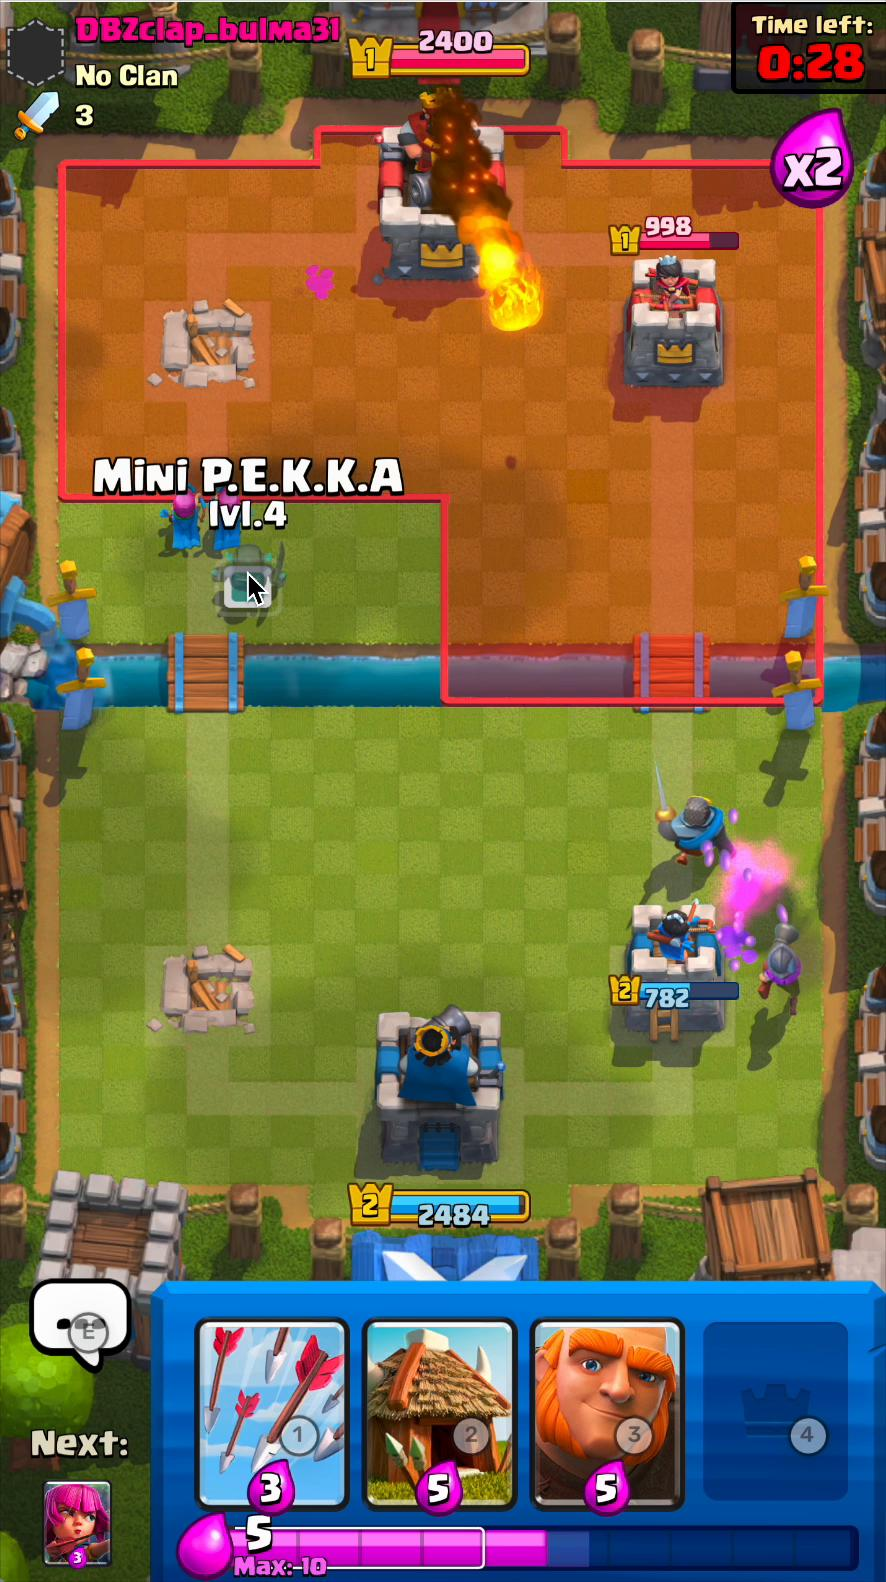archere: (211, 484, 250, 553), (161, 486, 201, 549)
chevalier: (652, 764, 741, 881)
mousquetaire: (749, 921, 809, 1013)
